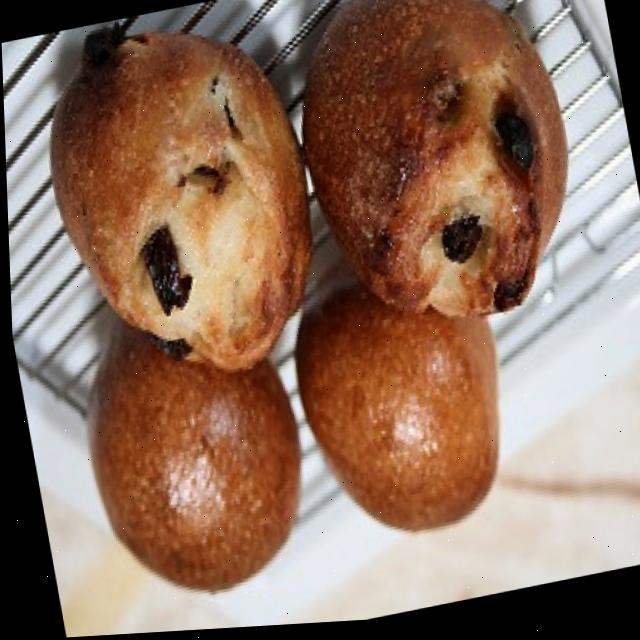面包点心: (3, 0, 622, 635)
